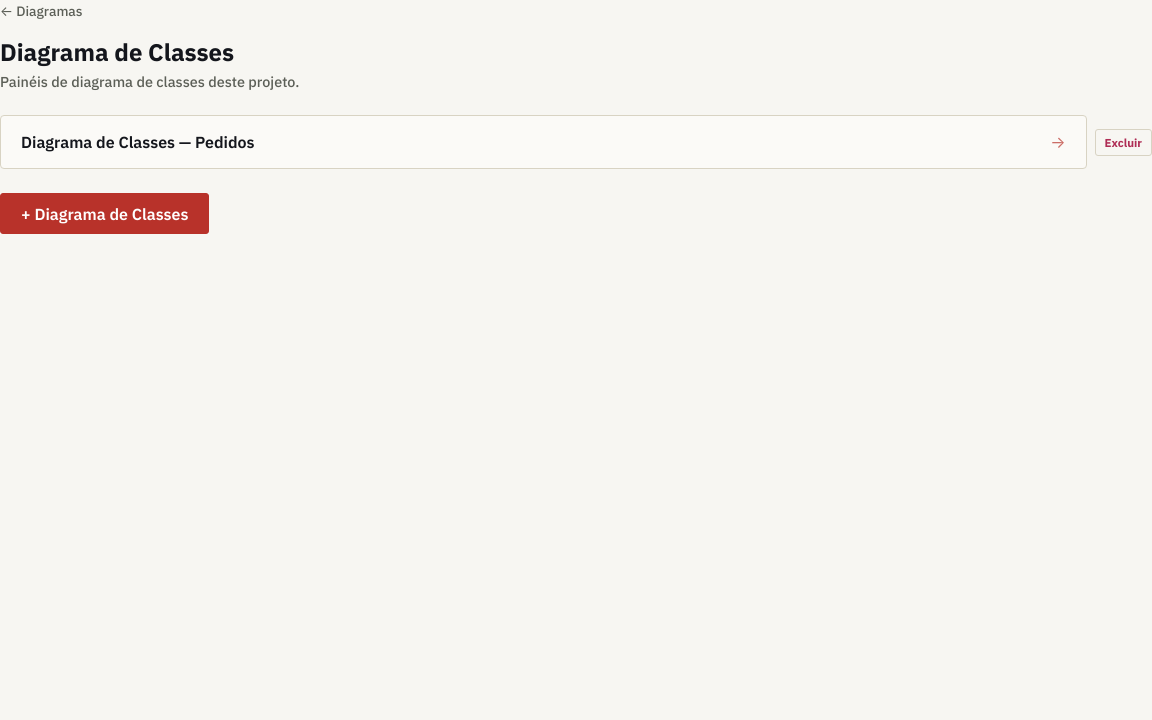
Test case: DiagramTypeListPage › TASK-028 CA-02: cancelar não exclui nada
Click the button "Excluir". click: click(1123, 142)
box: x1=1094 y1=128 x2=1151 y2=156
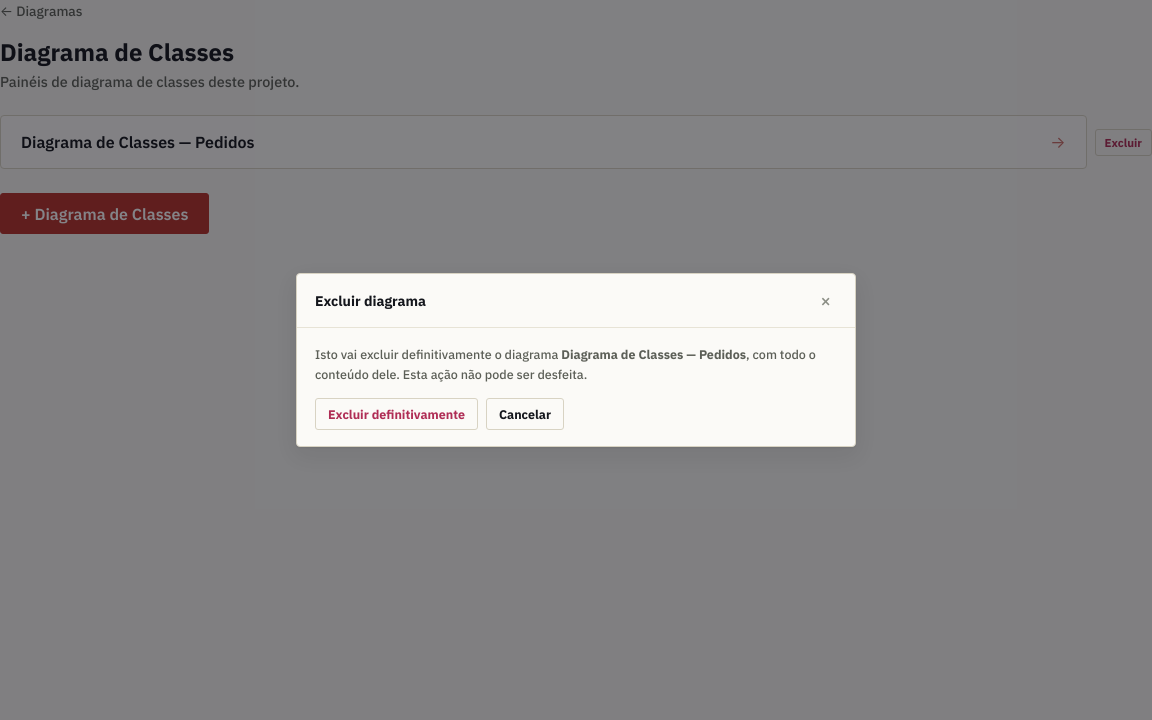
Click the button "Cancelar". click: click(525, 414)
box: x1=486 y1=398 x2=564 y2=430
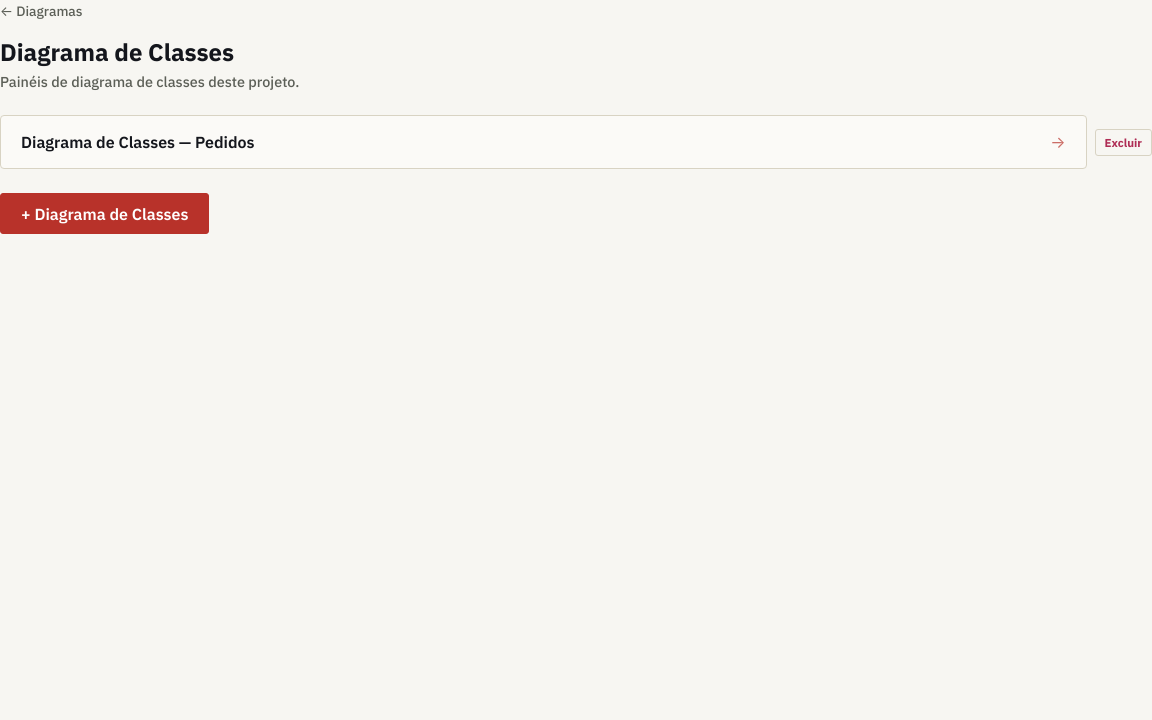
Now the heading "Excluir diagrama" is gone
